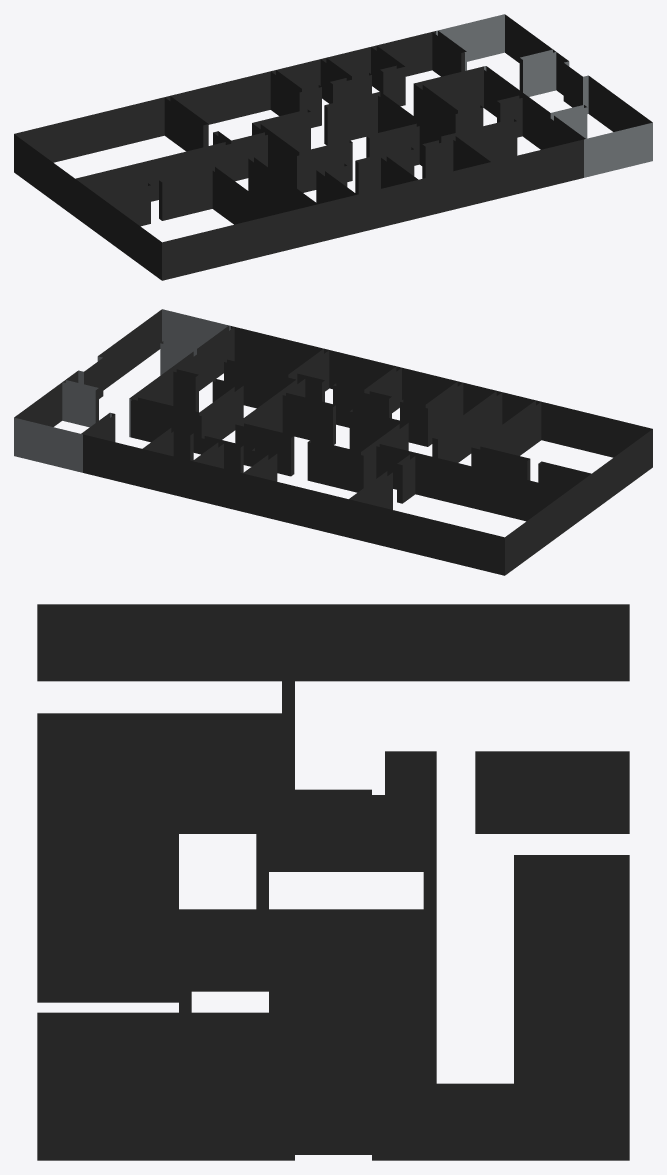
The model's file is walls.fbx.
3 views of the same model, one above another, from view 1: azimuth 30°, elevation 25°; view 2: azimuth 150°, elevation 25°; view 3: azimuth 270°, elevation 25° (orthographic). The views are drawn at different scales.
Parts seen in each view (by area): view 1: Walls; view 2: Walls; view 3: Walls.
Boxes of the visible parts, bbox=[...] form: Walls: bbox=[14, 14, 652, 280]; Walls: bbox=[14, 309, 652, 575]; Walls: bbox=[37, 604, 629, 1160].
Bounding box in the file's own units: 16000 × 1200 × 8364.
